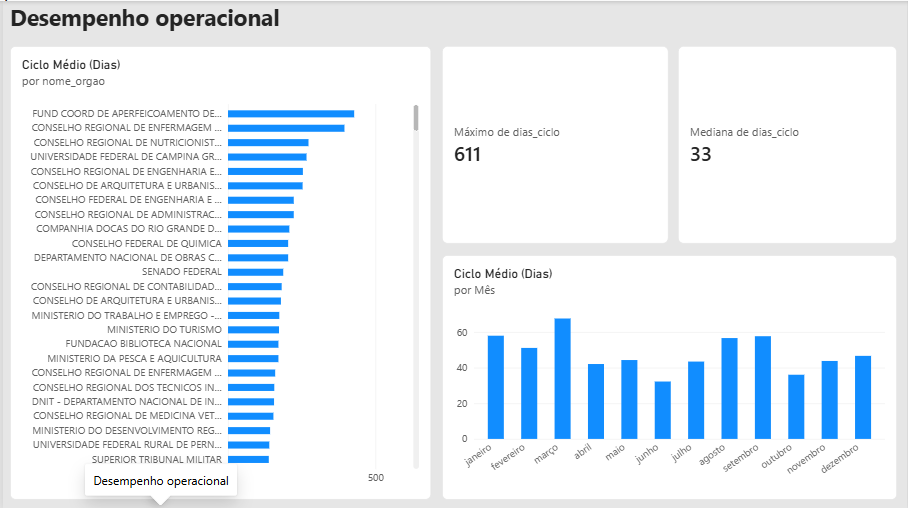

The page's visual inventory and layout, read from the dashboard file:
{"tool":"powerbi","page":{"name":"Desempenho operacional","canvas":[1280,720],"ordinal":1},"visuals":[{"type":"textbox","box":[10,0,400,50],"z":0},{"type":"columnChart","fields":{"Category":["pncp_controladoria fato_item_contratado.data_publicacao.Variation.Hierarquia de datas.Mês"],"Y":["pncp_controladoria fato_item_contratado.Ciclo Médio (Dias)"]},"box":[621.7,360,645,346.7],"z":1},{"type":"barChart","fields":{"Category":["pncp_controladoria dim_orgao.nome_orgao"],"Y":["pncp_controladoria fato_item_contratado.Ciclo Médio (Dias)"]},"box":[10,63.3,596.7,643.3],"z":2},{"type":"cardVisual","fields":{"Data":["Max(pncp_controladoria fato_item_contratado.dias_ciclo)"]},"box":[621.7,63.3,321.7,280],"z":3},{"type":"cardVisual","fields":{"Data":["Median(pncp_controladoria fato_item_contratado.dias_ciclo)"]},"box":[956.7,63.3,310,280],"z":4}]}

Visuals, with their boxes in screenshot pixels (x1, y1, x2, y2), scaled from the page's 1280x720 canvas onto the 909x508 screenshot:
textbox: {"x1": 7, "y1": 0, "x2": 291, "y2": 35}
columnChart - pncp_controladoria fato_item_contratado.data_publicacao.Variation.Hierarquia de datas.Mês x pncp_controladoria fato_item_contratado.Ciclo Médio (Dias): {"x1": 442, "y1": 254, "x2": 900, "y2": 499}
barChart - pncp_controladoria dim_orgao.nome_orgao x pncp_controladoria fato_item_contratado.Ciclo Médio (Dias): {"x1": 7, "y1": 45, "x2": 431, "y2": 499}
cardVisual - Max(pncp_controladoria fato_item_contratado.dias_ciclo): {"x1": 442, "y1": 45, "x2": 670, "y2": 242}
cardVisual - Median(pncp_controladoria fato_item_contratado.dias_ciclo): {"x1": 679, "y1": 45, "x2": 900, "y2": 242}
